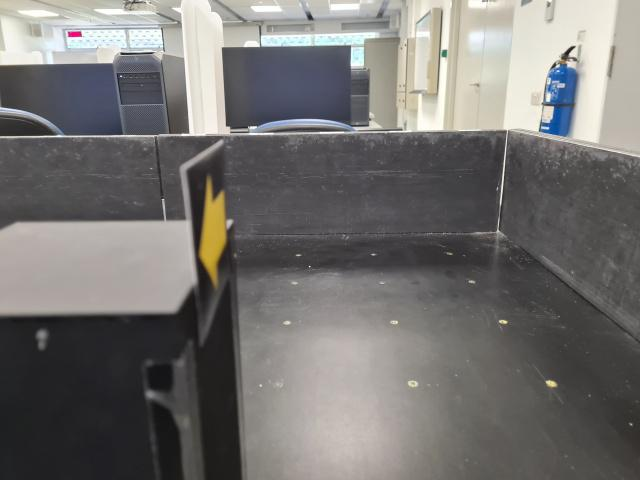right: (180, 137, 230, 348)
